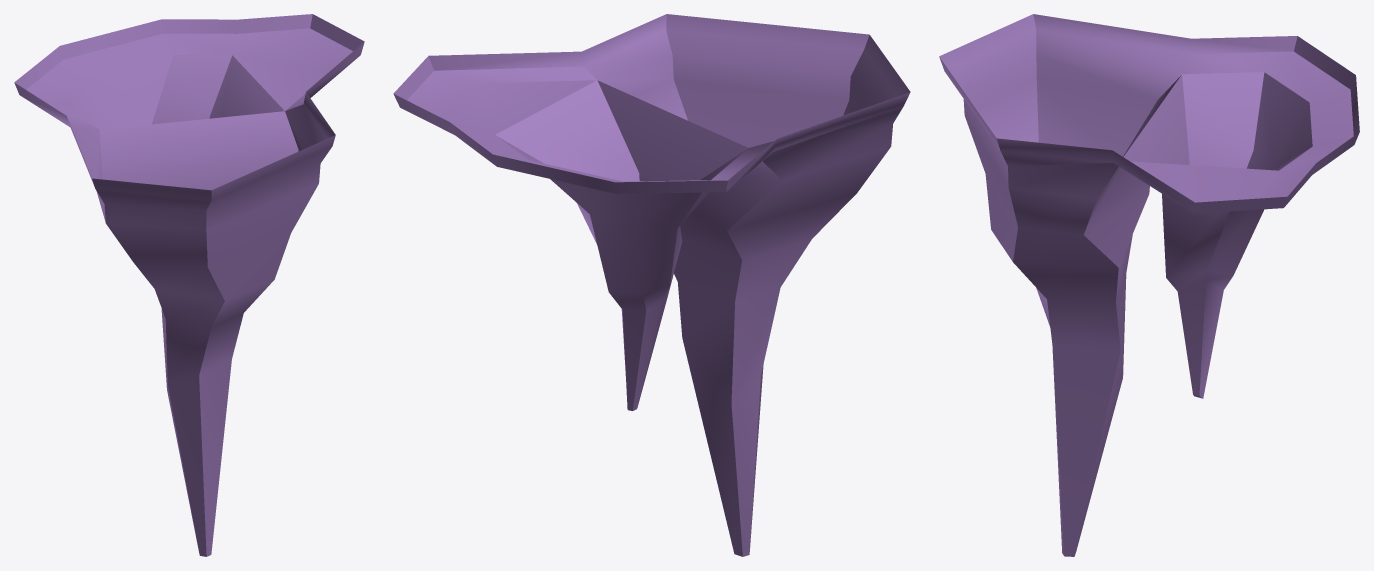
File: RockCeiling.fbx
3 renders of one model, left to right at view 1: azimuth 30°, elevation 25°; view 2: azimuth 150°, elevation 25°; view 3: azimuth 270°, elevation 25°, orthographic. The views are drawn at different scales.
Parts seen in each view (by area): view 1: RocCeiling; view 2: RocCeiling; view 3: RocCeiling.
Part boxes in pixels (x1,y1,x2,y2): RocCeiling: (14, 14, 364, 556); RocCeiling: (393, 14, 910, 556); RocCeiling: (939, 14, 1359, 556).
Bounding box in the file's own units: 7.82 × 9.08 × 7.38.
